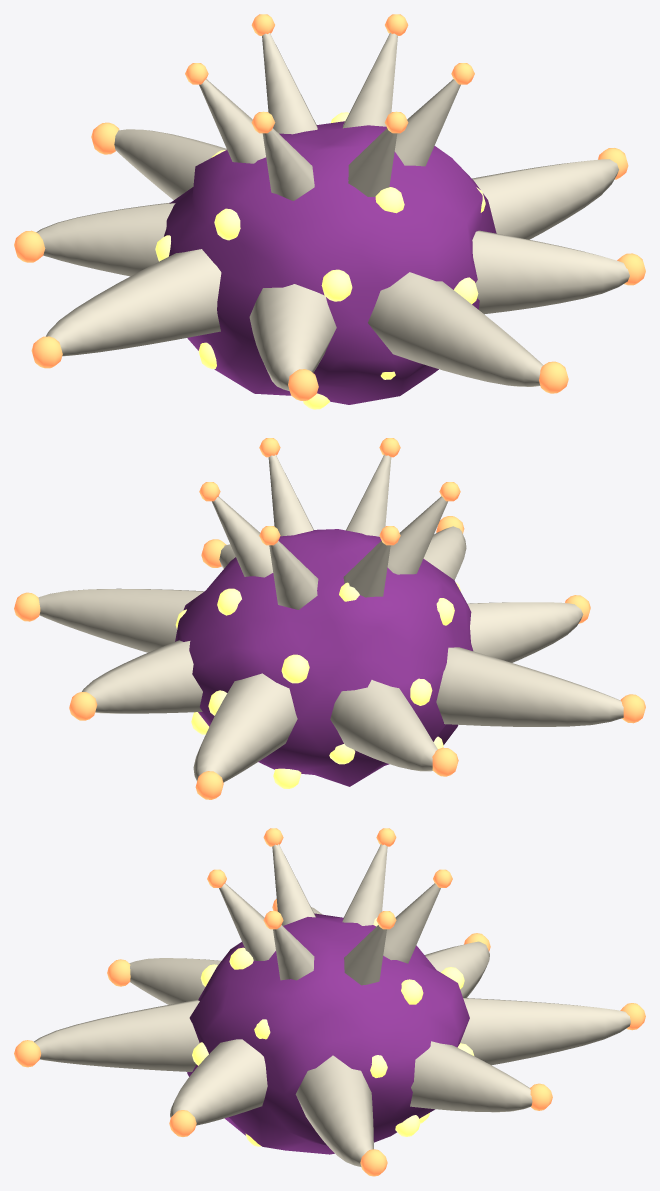
Rendered from spinner.glb.
3 renders of one model, top to bottom at view 1: azimuth 30°, elevation 25°; view 2: azimuth 150°, elevation 25°; view 3: azimuth 270°, elevation 25°, orthographic. The views are drawn at different scales.
Parts seen in each view (by area): view 1: spinner; view 2: spinner; view 3: spinner.
Part boxes in pixels (x1,y1,x2,y2): spinner: (14,14,645,409); spinner: (14,438,645,799); spinner: (14,828,645,1176).
Bounding box in the file's own units: 1.38 × 0.6417 × 1.38.
